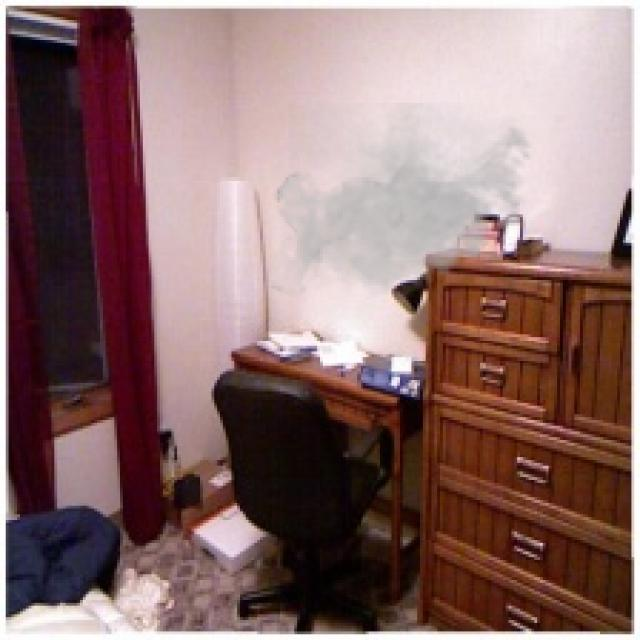smoke: (271, 103, 540, 303)
